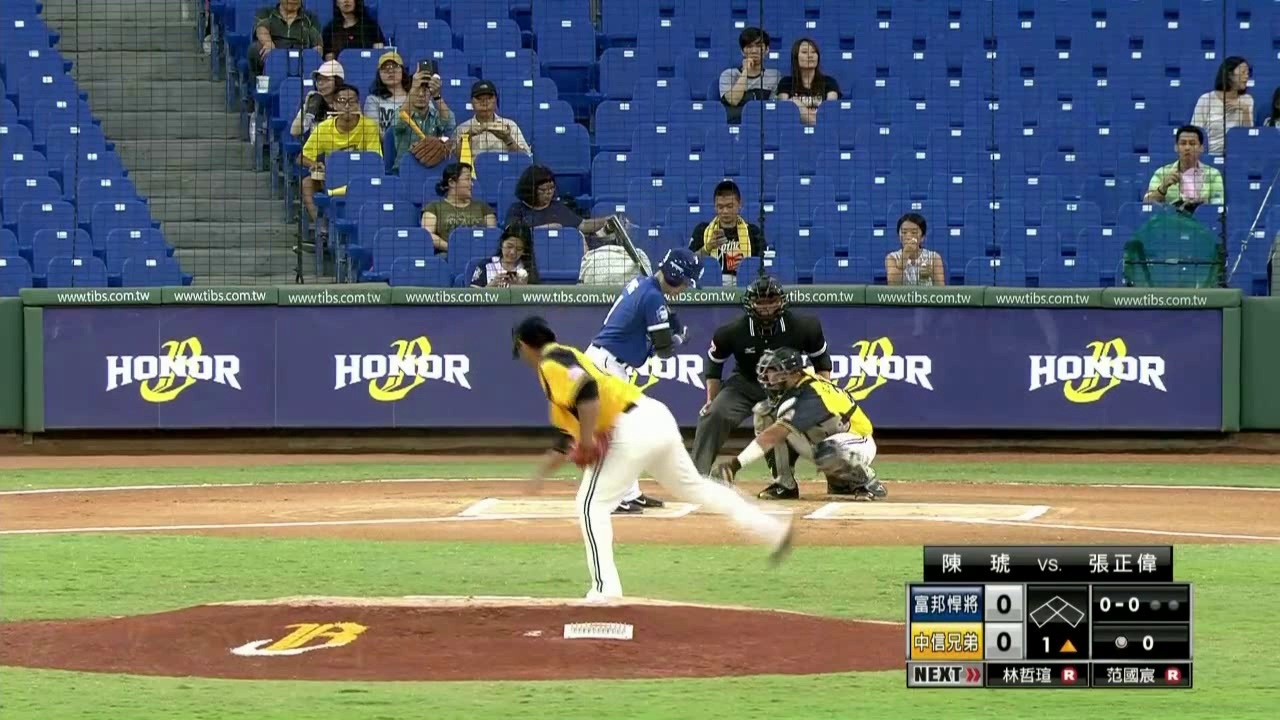base: (1025, 595, 1088, 631)
bat: (607, 212, 673, 323)
out: (1145, 591, 1180, 616)
score1: (982, 586, 1023, 620)
score2: (984, 620, 1019, 658)
session: (1029, 635, 1088, 658)
strikeball: (1096, 592, 1142, 617)
total: (1110, 630, 1166, 655)
